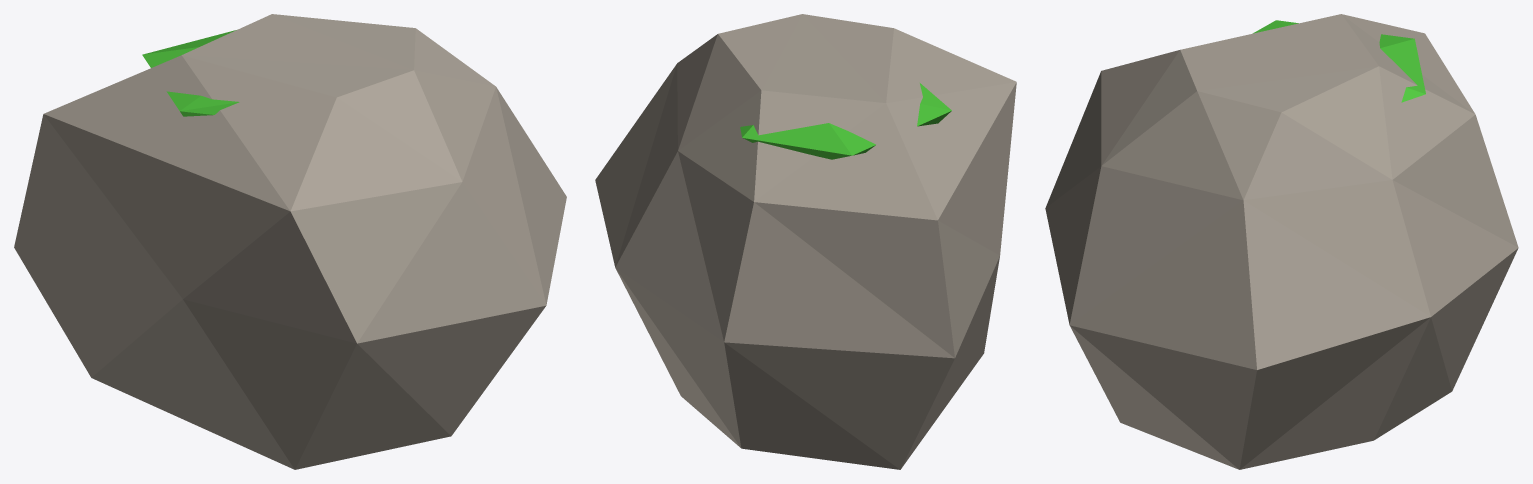
The model's file is rock_S_a.fbx.
The picture shows the model from 3 angles, left to right: view 1: azimuth 30°, elevation 25°; view 2: azimuth 150°, elevation 25°; view 3: azimuth 270°, elevation 25°; orthographic projection. The views are drawn at different scales.
Visible parts, largest first — view 1: rock_S_a; view 2: rock_S_a; view 3: rock_S_a.
Part boxes in pixels (bbox=[...]): rock_S_a: bbox=[14, 14, 566, 469]; rock_S_a: bbox=[595, 14, 1016, 469]; rock_S_a: bbox=[1045, 14, 1518, 469].
Bounding box in the file's own units: 1 × 0.7 × 0.9.
